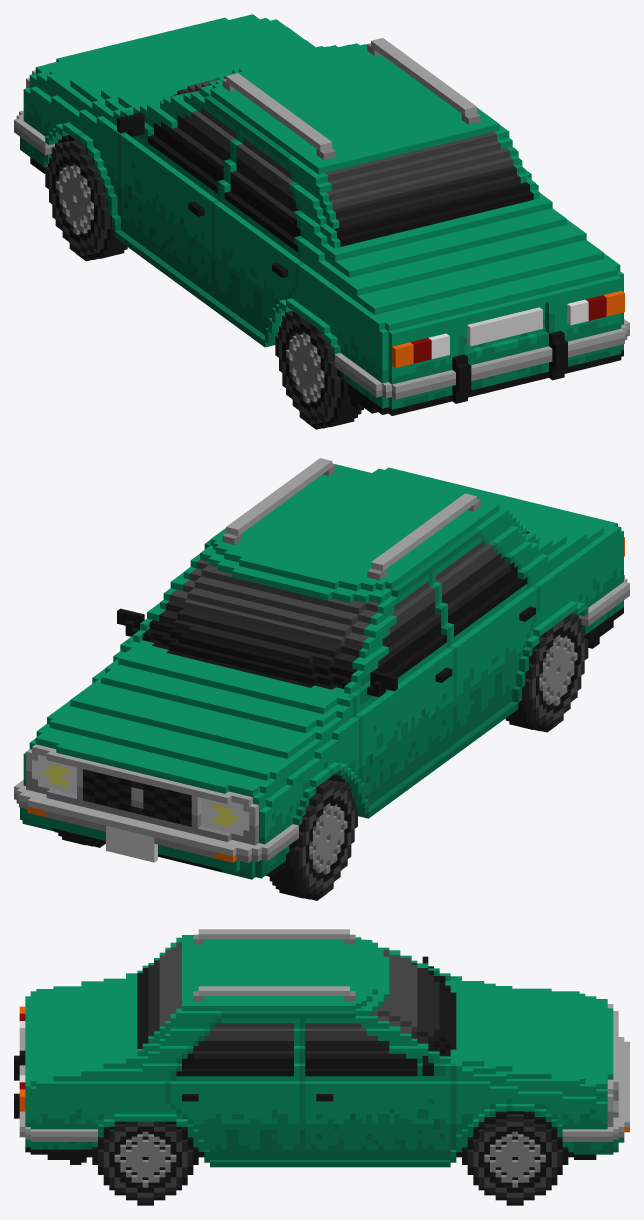
The picture shows the model from 3 angles, top to bottom: view 1: azimuth 30°, elevation 25°; view 2: azimuth 150°, elevation 25°; view 3: azimuth 270°, elevation 25°; orthographic projection. The views are drawn at different scales.
Parts seen in each view (by area): view 1: VOX; view 2: VOX; view 3: VOX.
Boxes of the visible parts, <box> form: VOX: <box>14,14,629,429</box>; VOX: <box>14,458,629,900</box>; VOX: <box>14,929,629,1205</box>.
Size of the model in its own units: 0.046 by 0.039 by 0.11.
